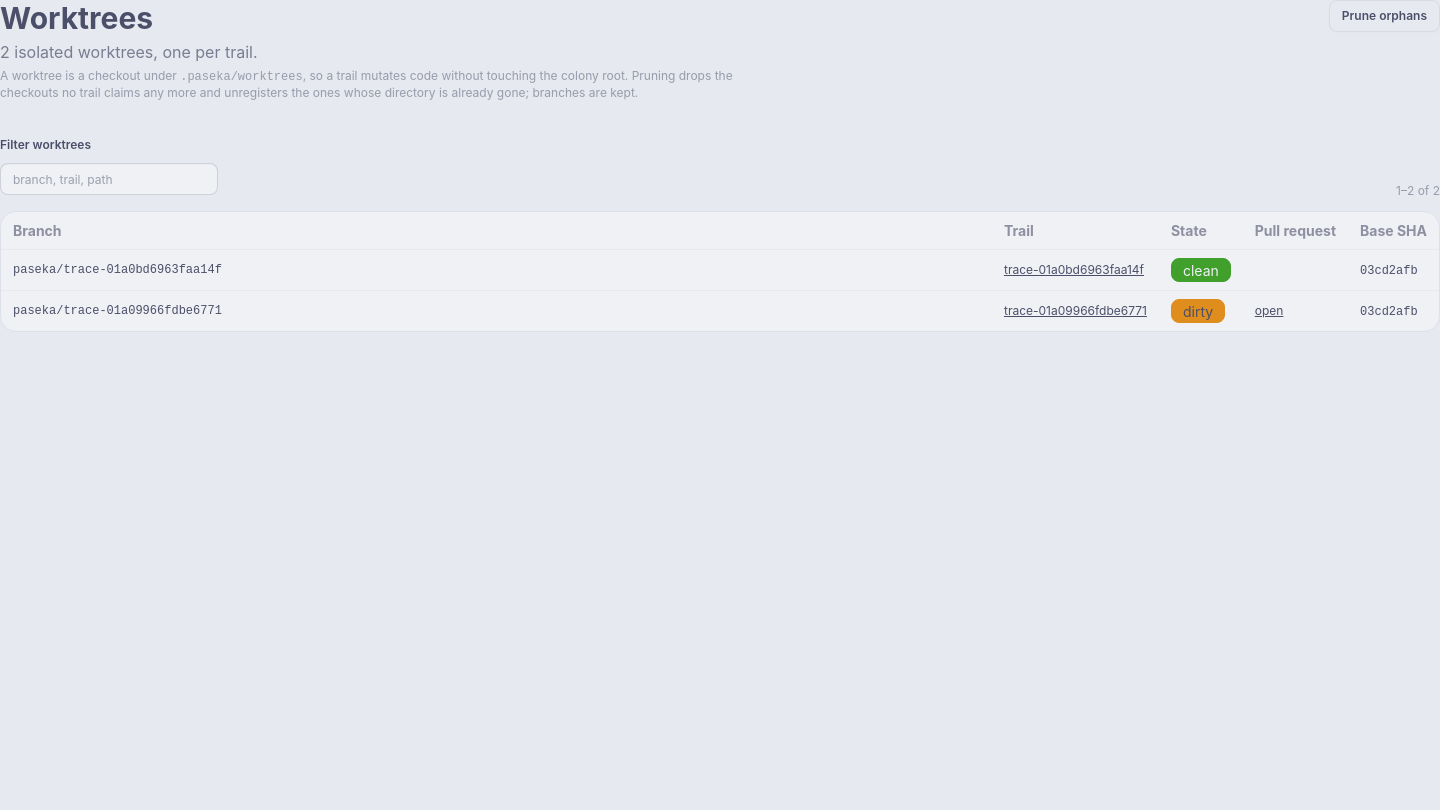
Test: worktrees route › reports what the prune reconciled, since git prints nothing on a clean sweep
Click the button "Prune orphans" at (1384, 16), box [1329,0,1439,32]
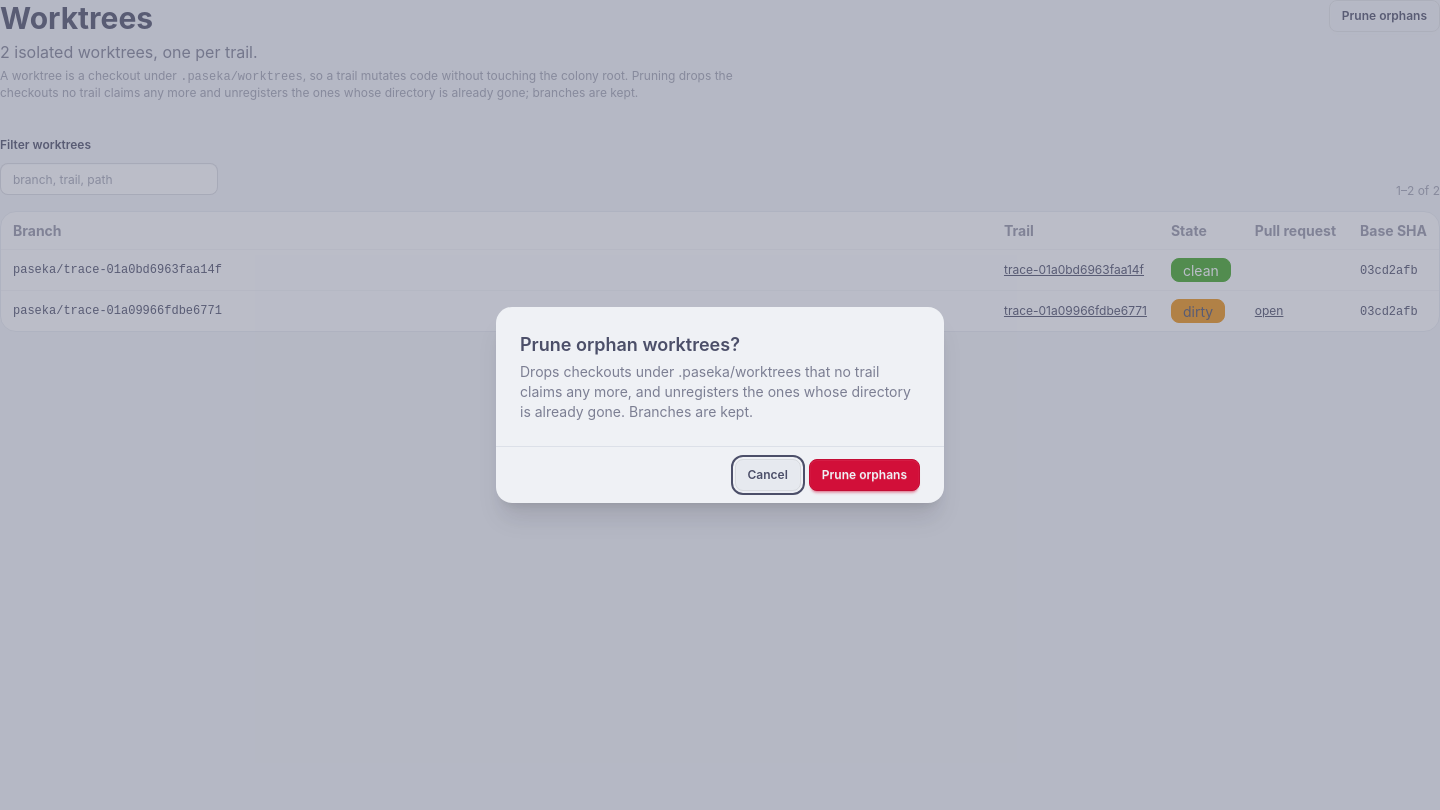
Click the button "Prune orphans" at (864, 475), box [809,459,920,491]
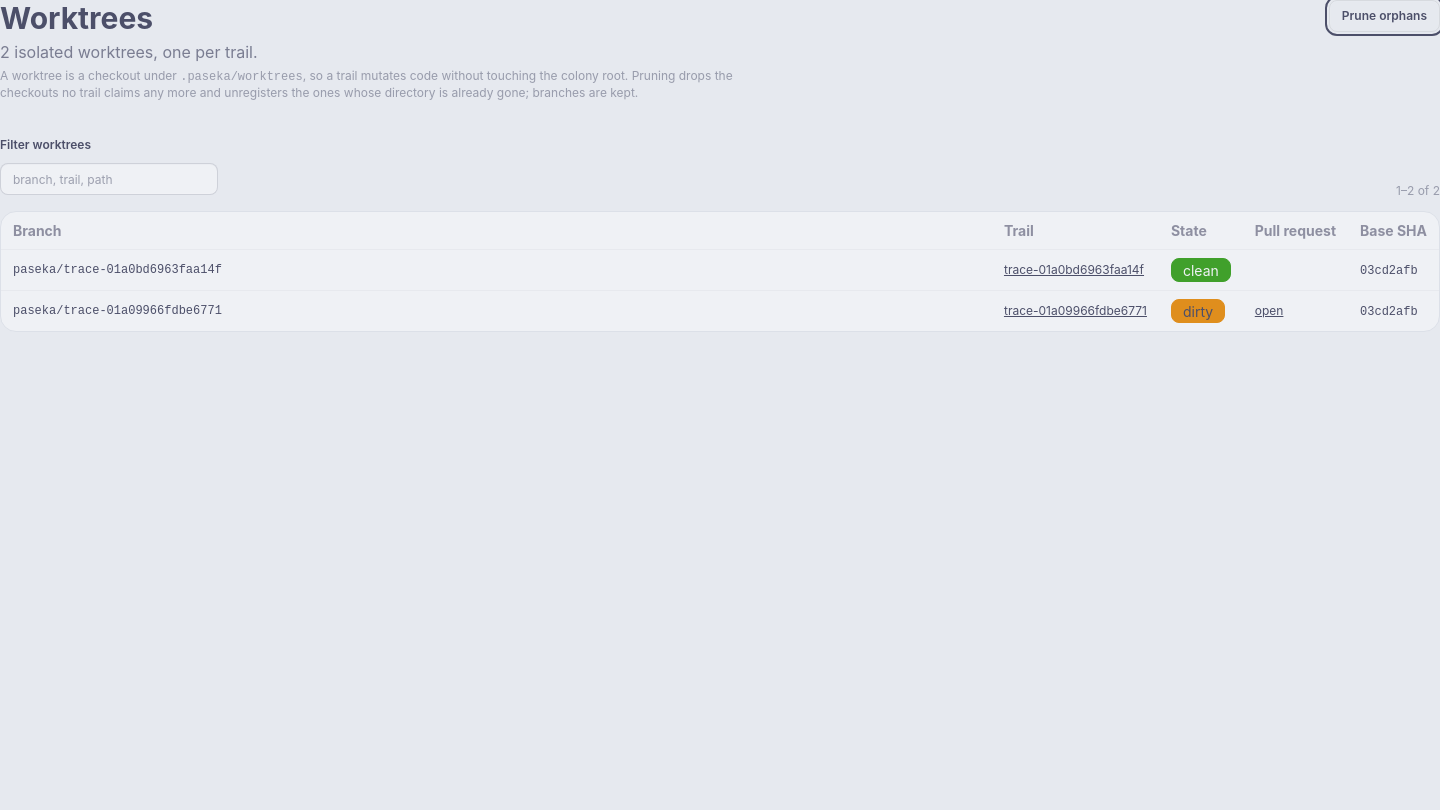
Check: the dialog is gone
